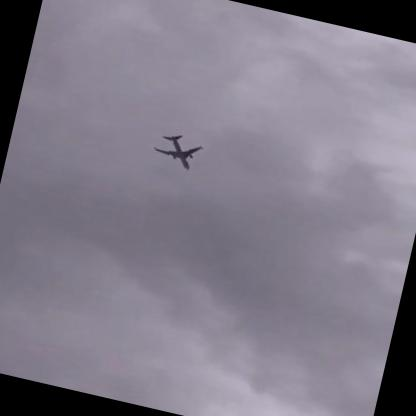plane: (152, 129, 205, 174)
